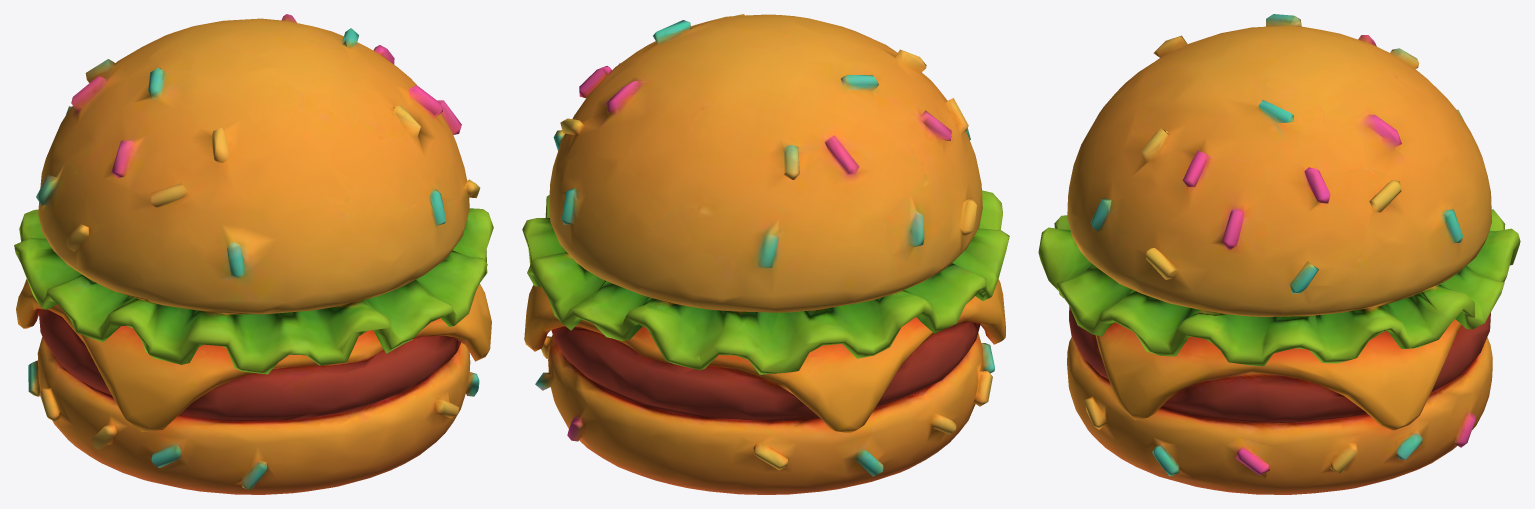
The model's file is food_hamburger.glb.
3 renders of one model, left to right at view 1: azimuth 30°, elevation 25°; view 2: azimuth 150°, elevation 25°; view 3: azimuth 270°, elevation 25°, orthographic. The views are drawn at different scales.
Visible parts, largest first — view 1: tripo_node_602bb21f-5e23-468e-9ea2-04f4ff138914; view 2: tripo_node_602bb21f-5e23-468e-9ea2-04f4ff138914; view 3: tripo_node_602bb21f-5e23-468e-9ea2-04f4ff138914.
Boxes of the visible parts, x1,y1,x2,y2 form: tripo_node_602bb21f-5e23-468e-9ea2-04f4ff138914: [14, 14, 493, 494]; tripo_node_602bb21f-5e23-468e-9ea2-04f4ff138914: [522, 14, 1009, 494]; tripo_node_602bb21f-5e23-468e-9ea2-04f4ff138914: [1038, 14, 1520, 494].
Bounding box in the file's own units: 0.1716 × 0.15 × 0.1756.
Materials: 1 (1 with a texture image).
